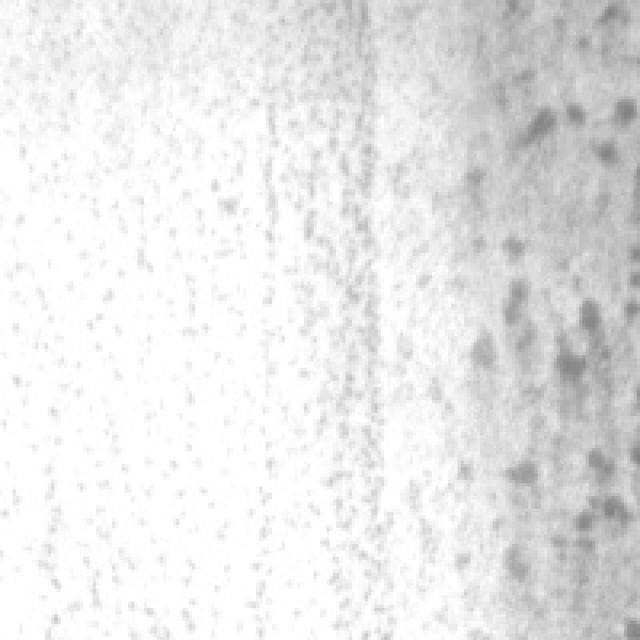pitted_surface: (470, 0, 640, 602), (262, 0, 393, 627), (12, 0, 250, 237)
